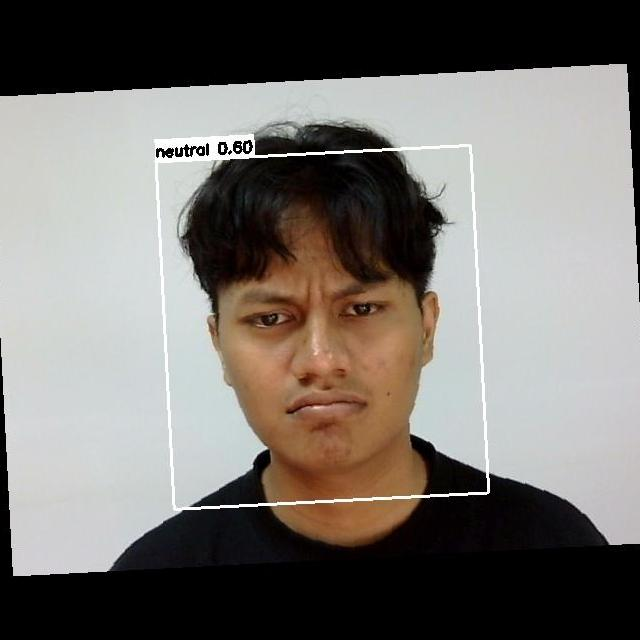Sad: (221, 258, 442, 441)
